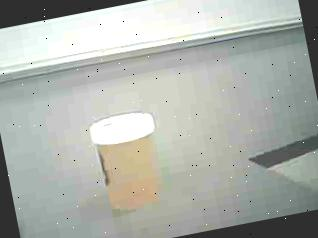Bottle B: (76, 101, 179, 226)
